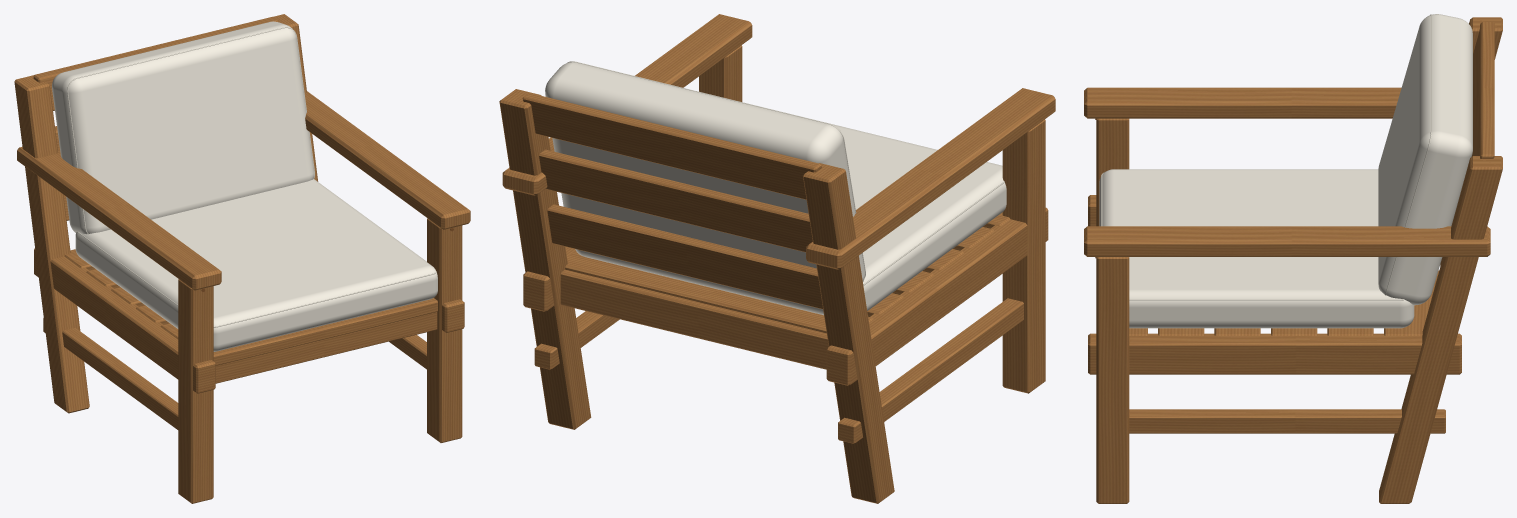
The model's file is teak-lounge-chair.glb.
3 views of the same model, side by side, from view 1: azimuth 30°, elevation 25°; view 2: azimuth 150°, elevation 25°; view 3: azimuth 270°, elevation 25° (orthographic). The views are drawn at different scales.
Visible parts, largest first — view 1: off_white_upholstery, natural_teak, upholstery_piping; view 2: natural_teak, off_white_upholstery, upholstery_piping; view 3: natural_teak, off_white_upholstery, upholstery_piping.
Boxes of the visible parts, x1,y1,x2,y2 form: off_white_upholstery: [52, 21, 437, 351]; natural_teak: [14, 14, 470, 503]; upholstery_piping: [67, 27, 436, 327]; natural_teak: [499, 14, 1055, 503]; off_white_upholstery: [545, 62, 1006, 315]; upholstery_piping: [567, 61, 1004, 285]; natural_teak: [1084, 17, 1502, 503]; off_white_upholstery: [1099, 14, 1472, 328]; upholstery_piping: [1101, 14, 1431, 300].
Size of the model in its own units: 0.7 by 0.75 by 0.8.
4 materials, 1 textured.
